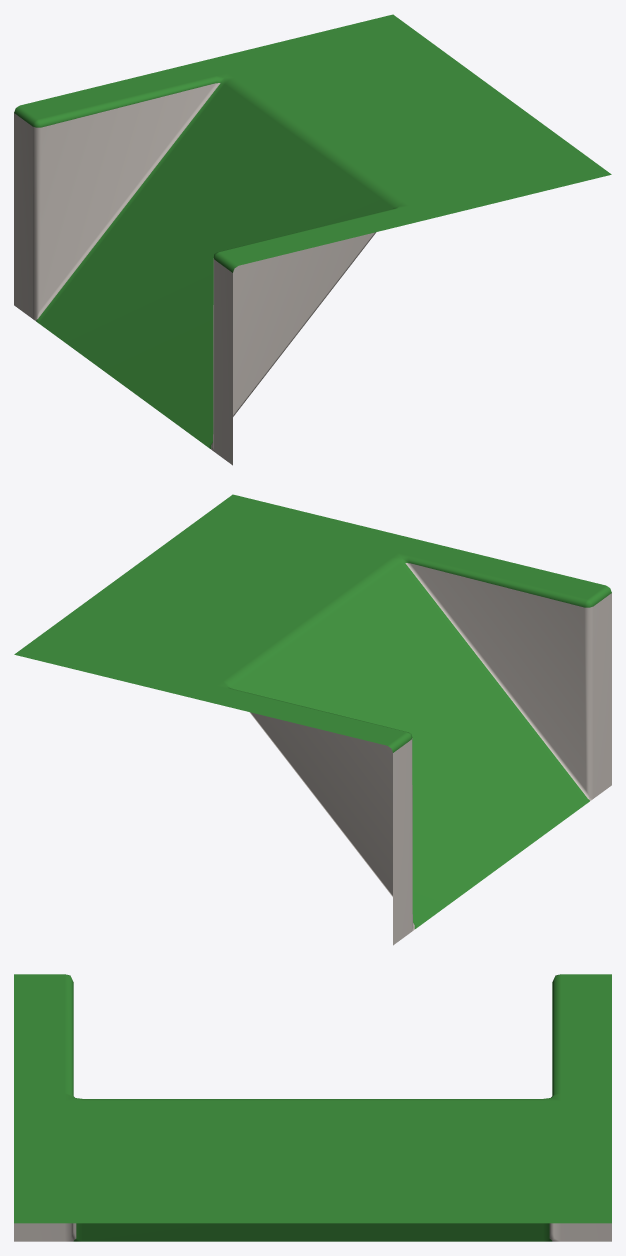
Rendered from cliff_ramp.fbx.
The picture shows the model from 3 angles, top to bottom: view 1: azimuth 30°, elevation 25°; view 2: azimuth 150°, elevation 25°; view 3: azimuth 270°, elevation 25°; orthographic projection. The views are drawn at different scales.
Visible parts, largest first — view 1: Cliff_Stair; view 2: Cliff_Stair; view 3: Cliff_Stair.
Boxes of the visible parts, x1=… form: Cliff_Stair: x1=14, y1=14, x2=611, y2=465; Cliff_Stair: x1=14, y1=494, x2=611, y2=945; Cliff_Stair: x1=14, y1=974, x2=611, y2=1241.
Size of the model in its own units: 200 by 100 by 200.
